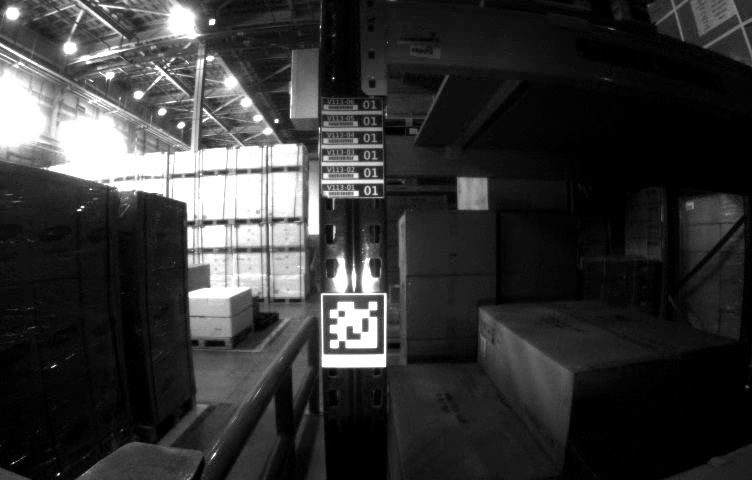True Barcode: (427, 220, 437, 236)
